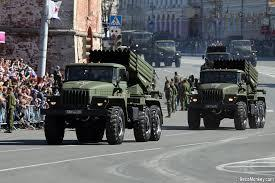MIL_SAM_TEL: (46, 44, 165, 145), (187, 59, 267, 130), (143, 32, 183, 68), (221, 34, 258, 67)
